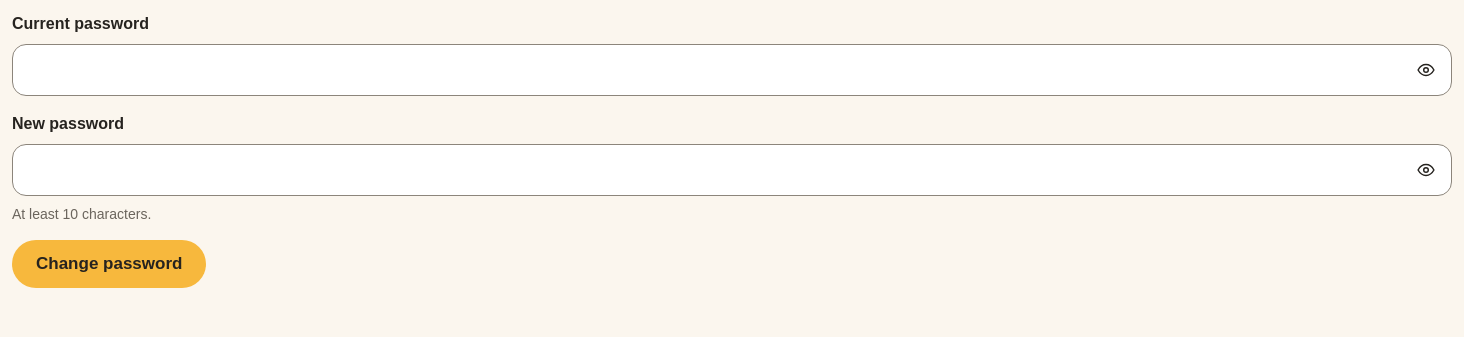
Test: ChangePasswordForm › a wrong current password focuses that field and clears both
In the password field labelled "Current password": (732, 70) left=12, top=44, right=1452, bottom=96, type "old-password"
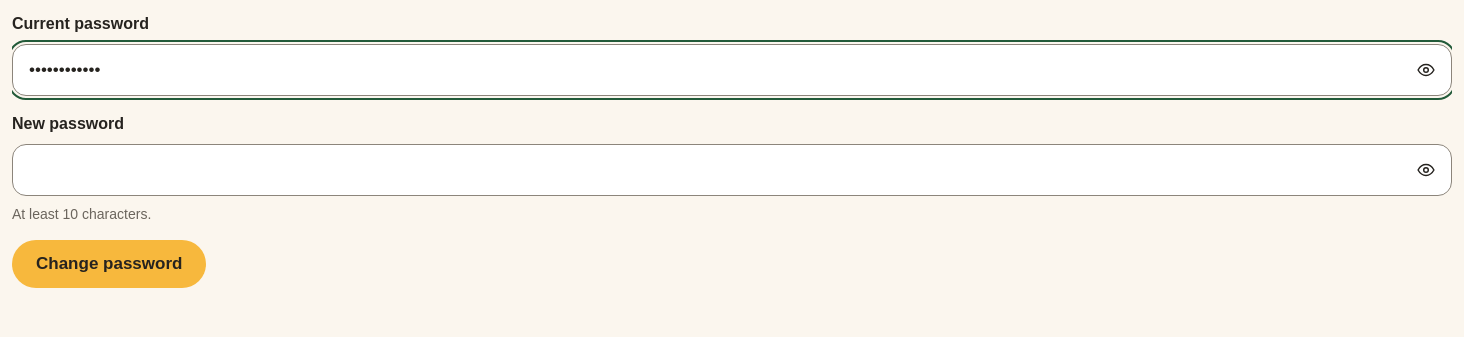
In the password field labelled "New password": (732, 170) left=12, top=144, right=1452, bottom=196, type "new-password-1"
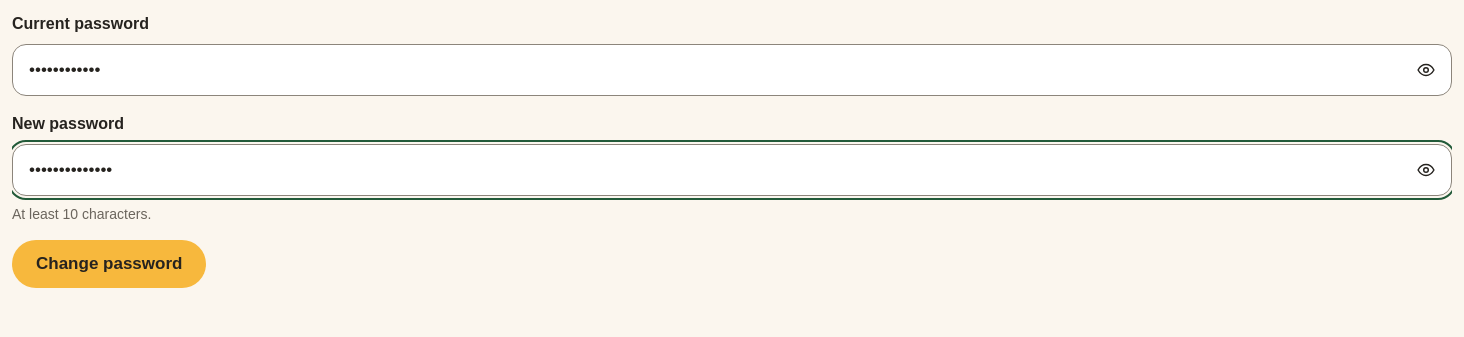
Click the button "Change password": (109, 264) left=12, top=240, right=206, bottom=288
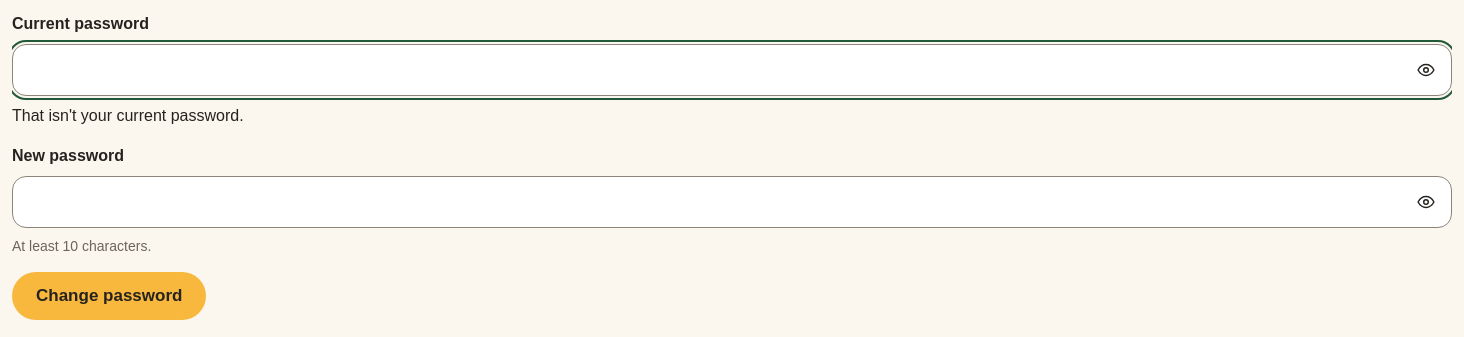
Now the text "That isn't your current password." is shown, box left=12, top=107, right=244, bottom=124
Now the password field labelled "Current password" is empty, box left=12, top=44, right=1452, bottom=96
Now the password field labelled "New password" is empty, box left=12, top=176, right=1452, bottom=228
